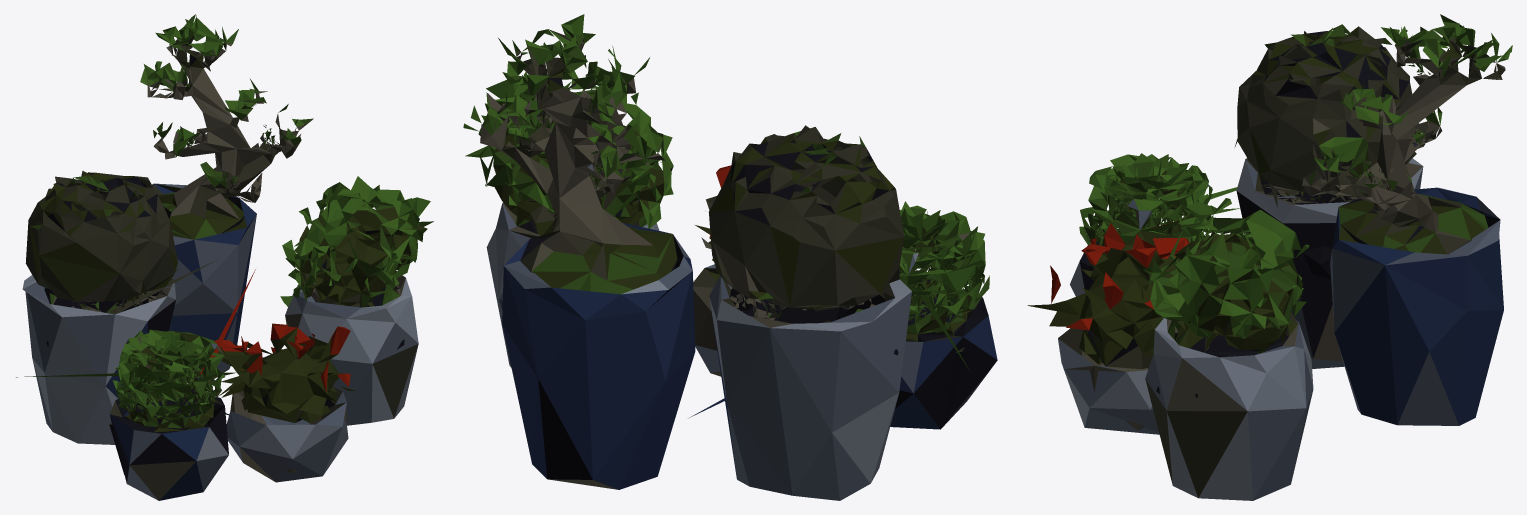
File: pots.glb
The picture shows the model from 3 angles, left to right: view 1: azimuth 30°, elevation 25°; view 2: azimuth 150°, elevation 25°; view 3: azimuth 270°, elevation 25°; orthographic projection. The views are drawn at different scales.
Visible parts, largest first — view 1: pots; view 2: pots; view 3: pots.
Boxes of the visible parts, <box> form: pots: <box>16,14,433,500</box>; pots: <box>463,14,997,500</box>; pots: <box>1027,14,1512,500</box>.
Size of the model in its own units: 1.15 by 0.9507 by 0.9993.
